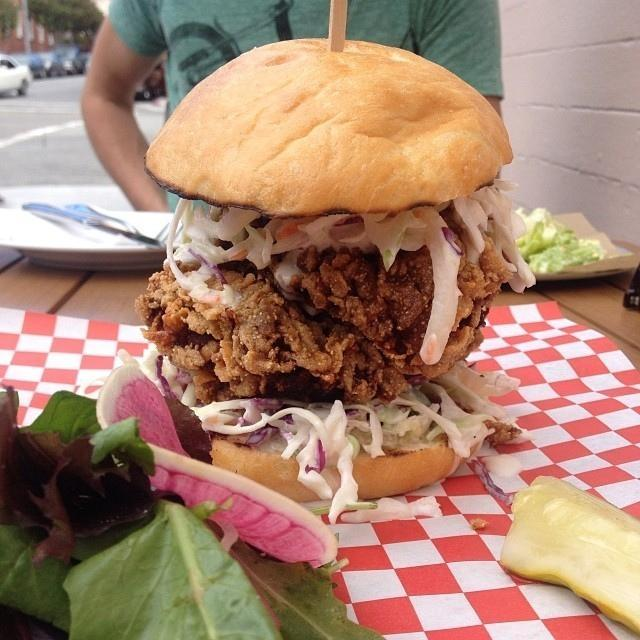car: (0, 52, 32, 97), (134, 53, 164, 98), (44, 49, 88, 78)
